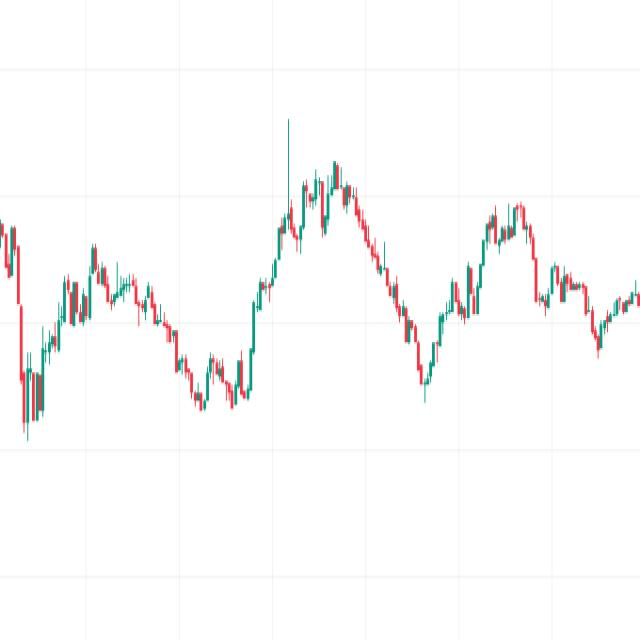Triple-Bottom: (176, 344, 267, 415)
